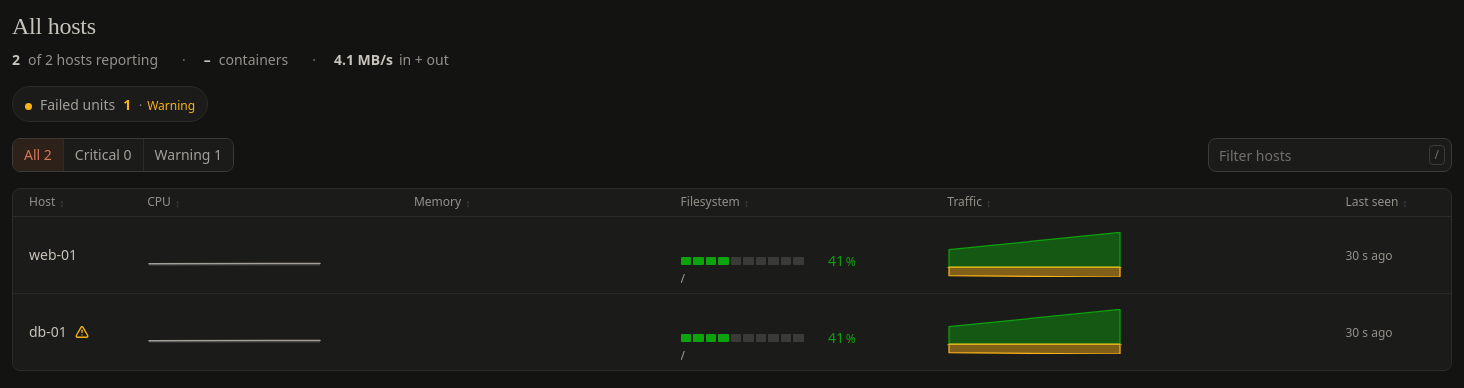
Test: FleetPage data fetching › filters the list to the hosts carrying the kind that was clicked
Click the link "Failed units 1 ·Warning" at (110, 104), box [12,86,208,122]
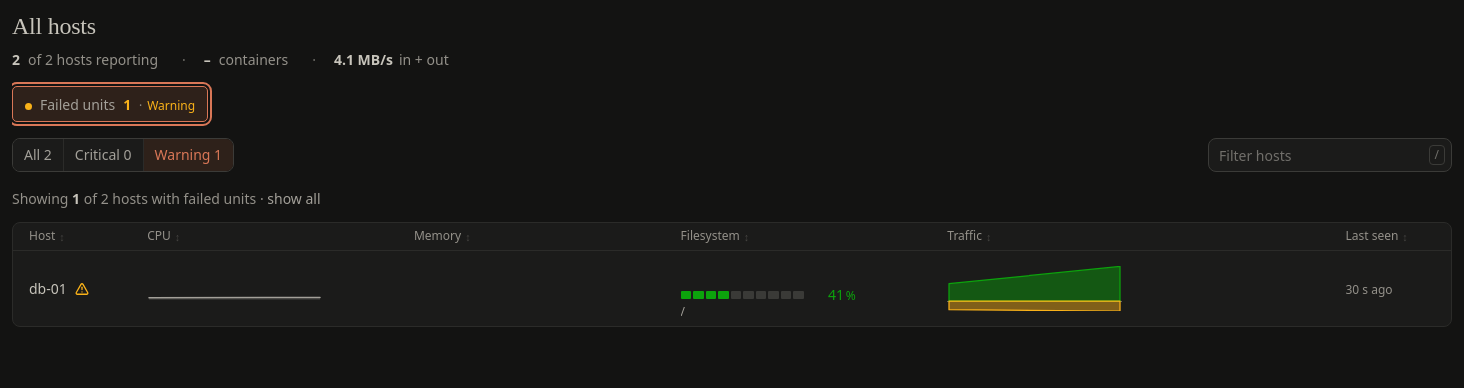
Expected: the link "db-01" is shown, [29,278,67,299]
Expected: the link "web-01" is gone
Expected: the link "show all" is shown, [267,189,321,208]
